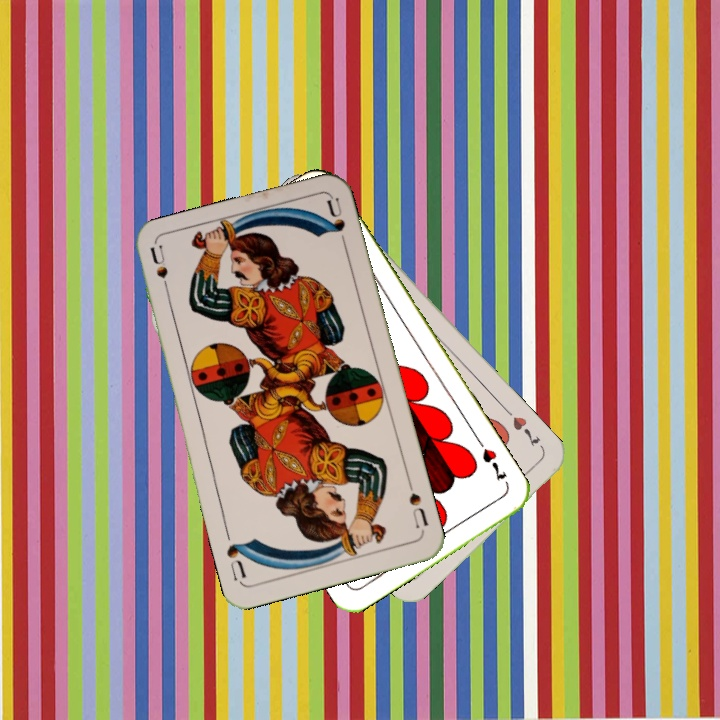H7: (508, 412, 543, 450), (478, 444, 510, 484)
SU: (147, 243, 174, 303), (403, 477, 431, 531)
